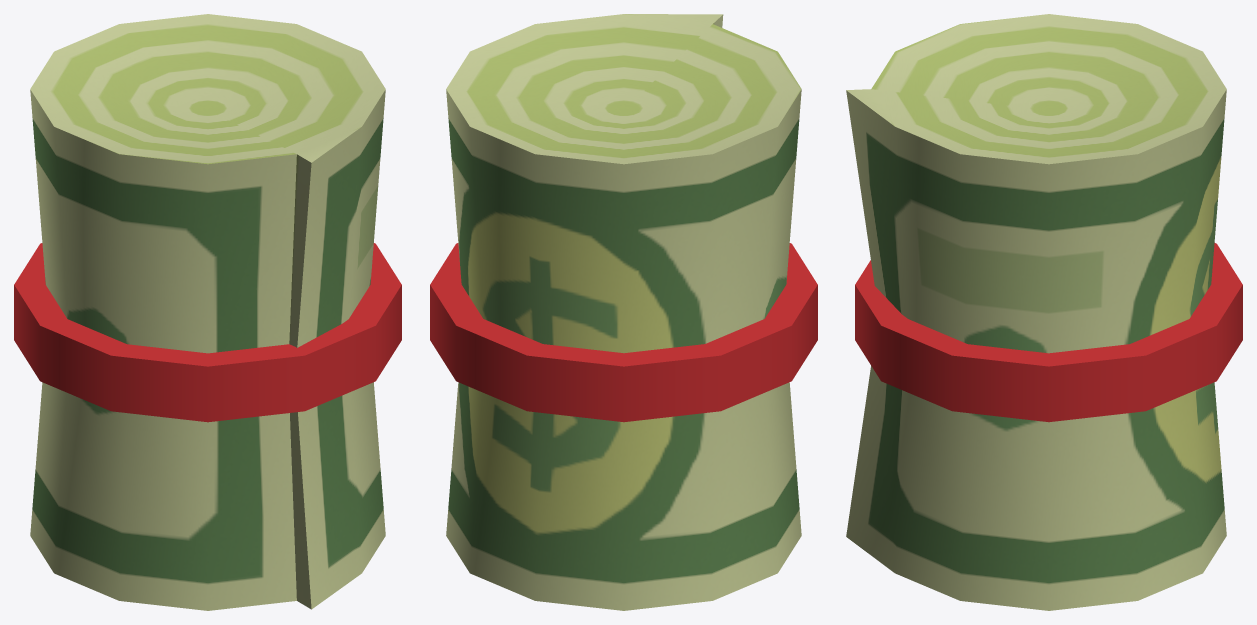
The model's file is Cash_11.obj.
The picture shows the model from 3 angles, left to right: view 1: azimuth 30°, elevation 25°; view 2: azimuth 150°, elevation 25°; view 3: azimuth 270°, elevation 25°; orthographic projection.
Visible parts, largest first — view 1: Cash_11; view 2: Cash_11; view 3: Cash_11.
Part boxes in pixels (x1,y1,x2,y2): Cash_11: (14, 14, 401, 610); Cash_11: (430, 14, 817, 610); Cash_11: (846, 14, 1242, 610).
Size of the model in its own units: 0.0944 by 0.12 by 0.0966.
Materials: 2 (2 with a texture image).
